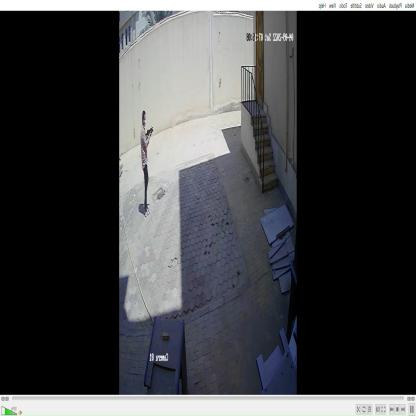handgun: (143, 123, 155, 146)
